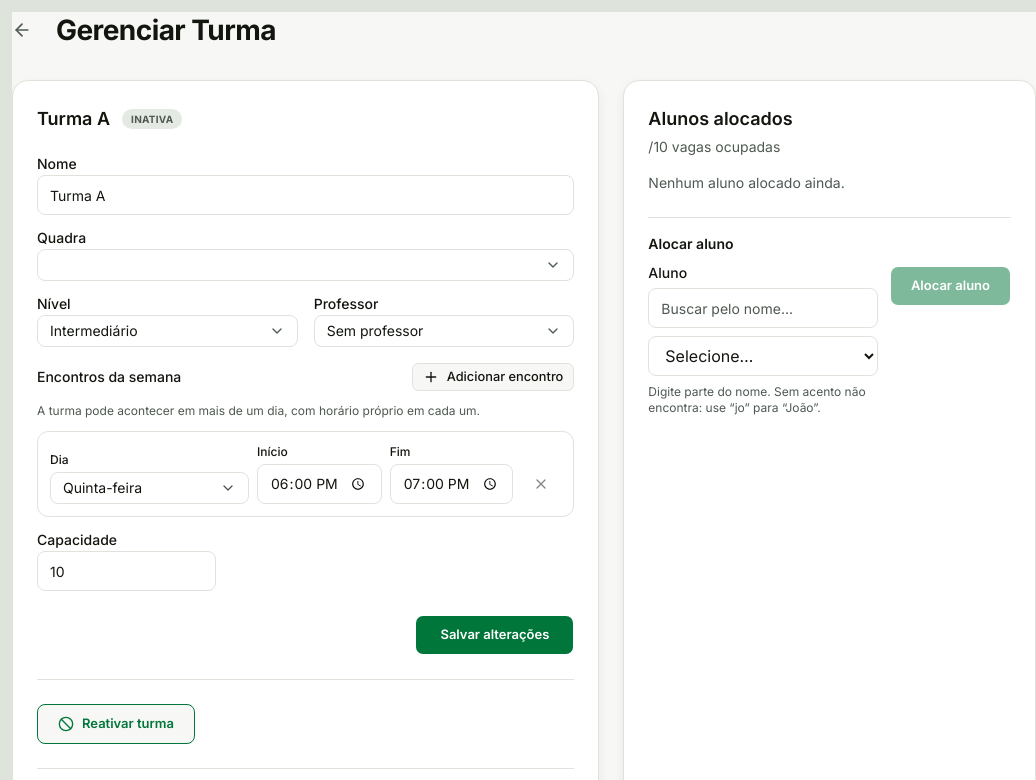
Scenario: ClassManager — inativar e reativar › erro SEM `conflicts` cai na mensagem do servidor, e não inventa contagem
Click the button "Reativar turma" at (116, 724), box [37,704,195,744]
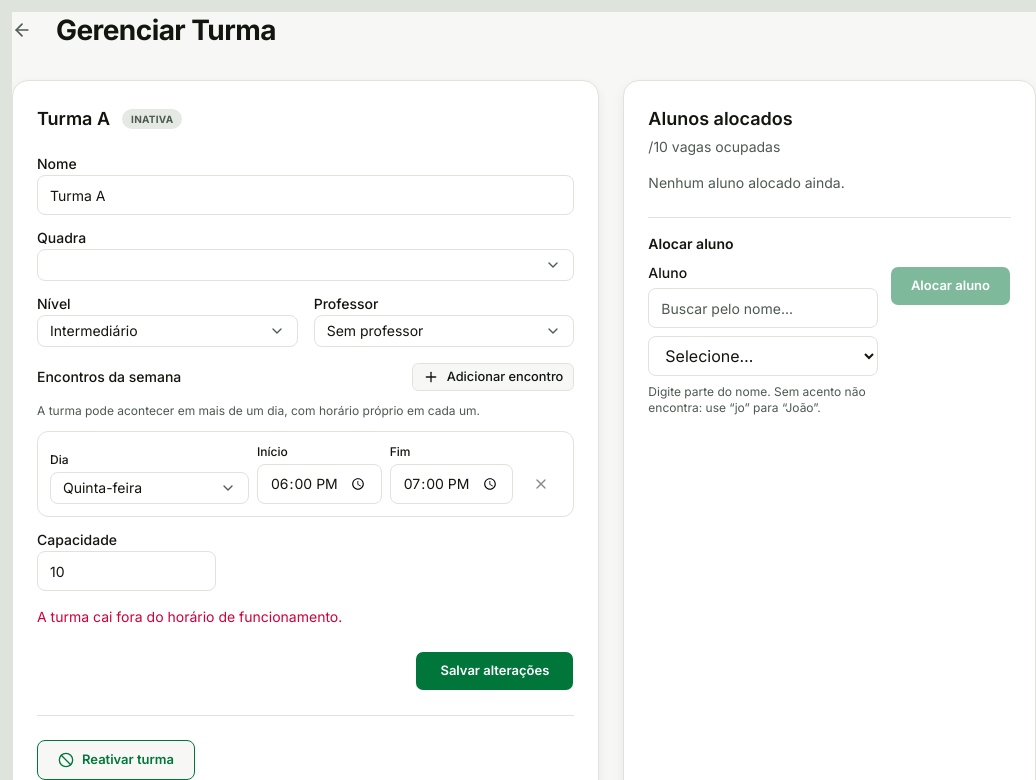
Now the text "A turma cai fora do horário de funcionamento." is shown, box [37,608,342,625]
